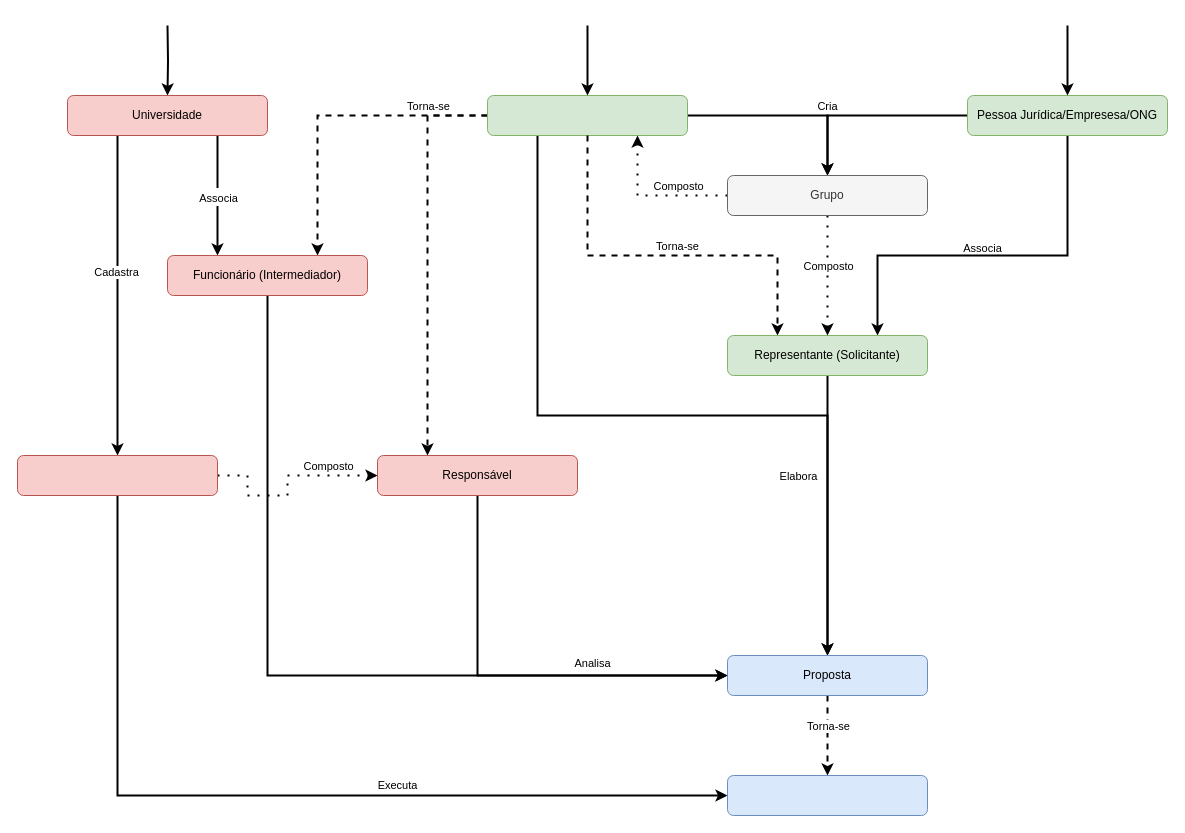
The diagram is 1185 pixels wide and 833 high, and some of its shapes have lost their labels. Here are the shapes that lost their labels. From the top down, the box of each, then its label:
(486, 94, 688, 136): Pessoa Física
(16, 454, 218, 496): Departamento (Executor)
(726, 774, 928, 816): Projeto
